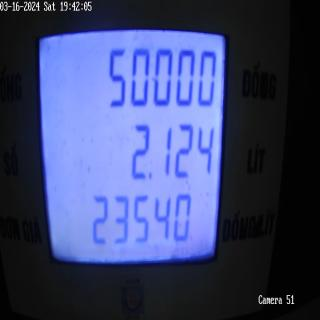screen: (32, 4, 233, 299)
